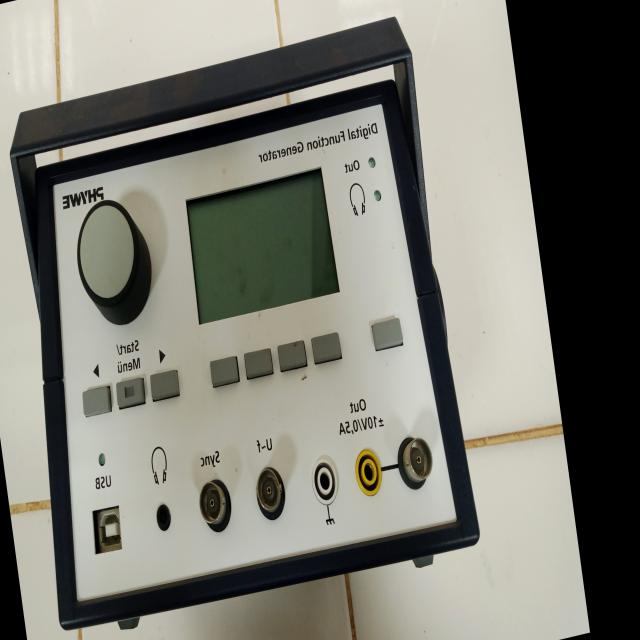Digital Function Generator: (0, 2, 498, 640)
